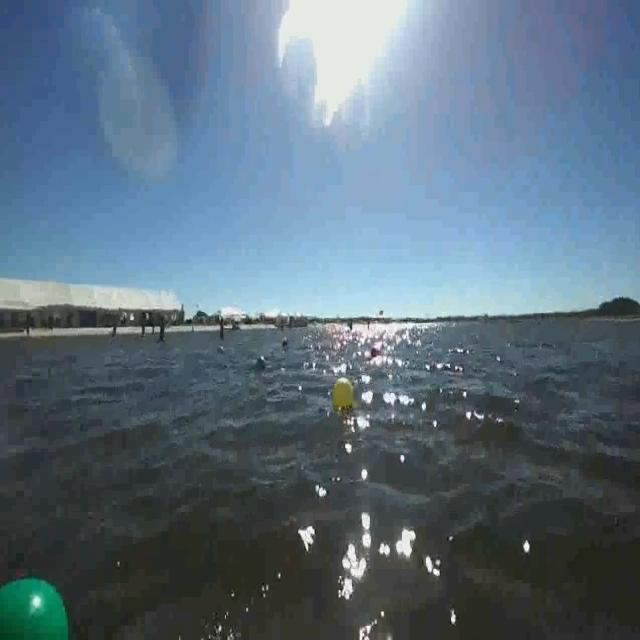green-buoy: (0, 568, 80, 639)
yellow-buoy: (332, 375, 357, 414)
